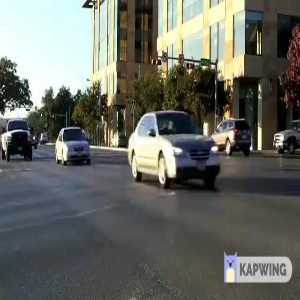car: (127, 105, 224, 195), (49, 124, 95, 167)
suv: (207, 114, 253, 158)
truck: (1, 117, 37, 167)
